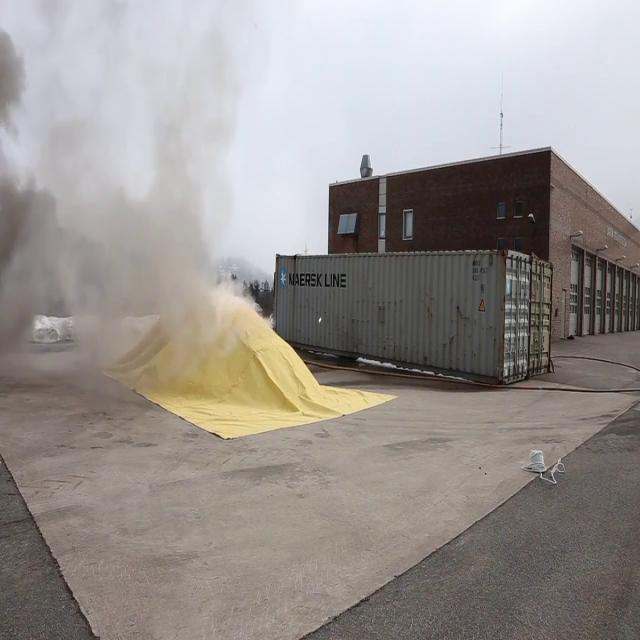Smoke: (0, 0, 251, 420)
